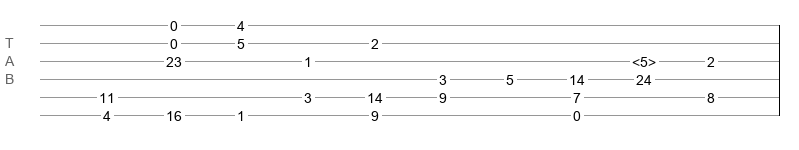0: (170, 36, 178, 46), (170, 18, 178, 28), (573, 108, 581, 118)
1: (237, 108, 245, 118), (304, 54, 312, 64)
11: (99, 90, 115, 100)
14: (367, 90, 383, 100), (569, 72, 585, 82)
16: (166, 108, 182, 118)
2: (371, 36, 379, 46), (707, 54, 715, 64)
23: (166, 54, 182, 64)
24: (636, 72, 652, 82)
3: (304, 90, 312, 100), (439, 72, 447, 82)
4: (103, 108, 111, 118), (237, 18, 245, 28)
5: (237, 36, 245, 46), (506, 72, 514, 82)
7: (573, 90, 581, 100)
8: (707, 90, 715, 100)
9: (371, 108, 379, 118), (439, 90, 447, 100)
harmonic: (632, 54, 656, 64)
